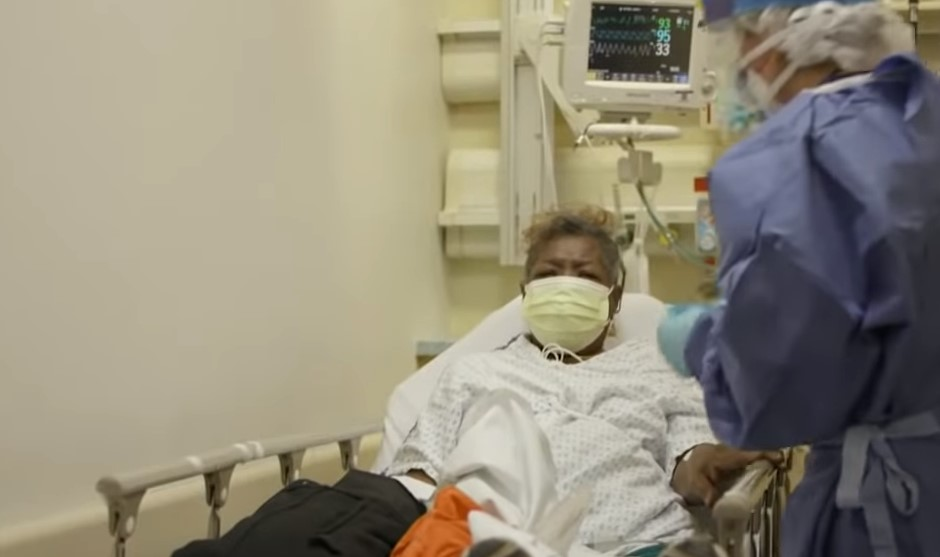face_with_mask: (697, 4, 914, 121), (519, 220, 627, 354)
